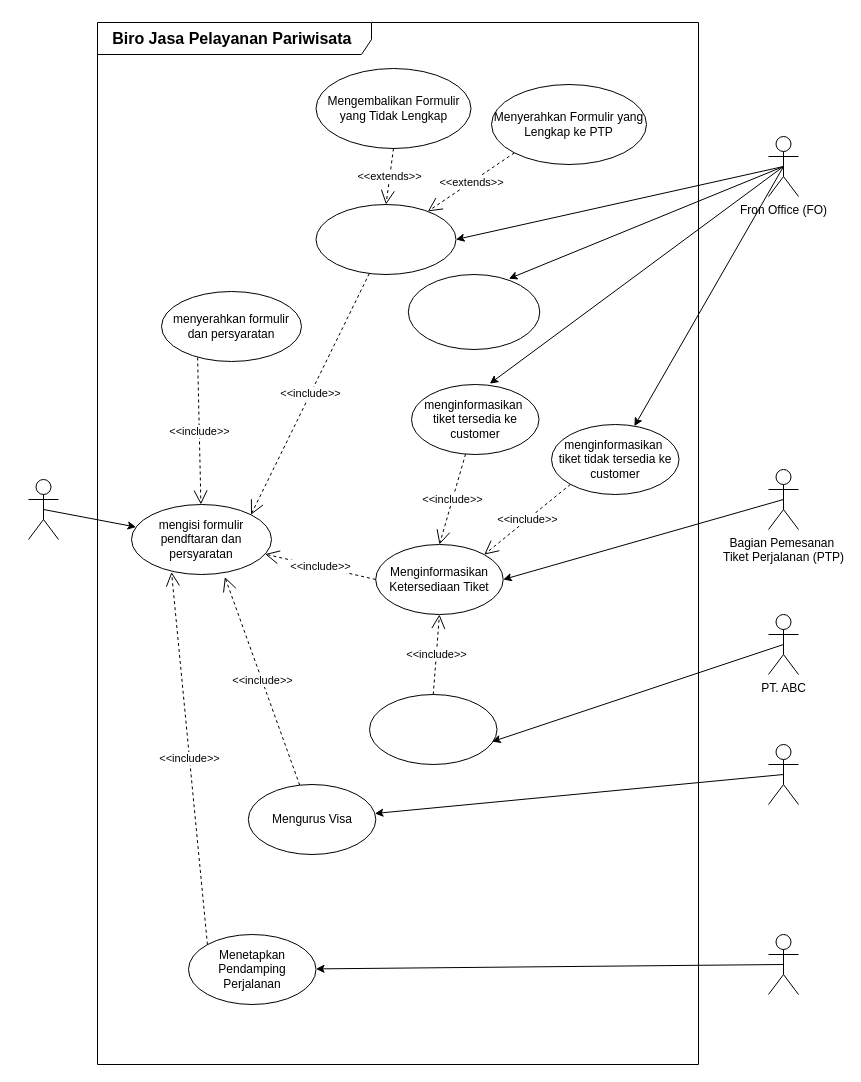
Image size: 861x1082. Some labels were removed from this diagram. The box of each missing label's shape, as (x1, y1, x2, y2) in pixels:
Bagian Pendamping Perjalanan (PP): (768, 934, 798, 994)
Customer: (28, 478, 58, 540)
Memberitahukan Ketersediaan Tiket: (368, 694, 497, 764)
Menyerahkan Paspor ke Customer: (407, 274, 540, 350)
PT. Bagian Pengurusan Visa (PV): (768, 744, 798, 804)
Verifikasi Kelengkapan Formulir: (315, 204, 456, 274)
